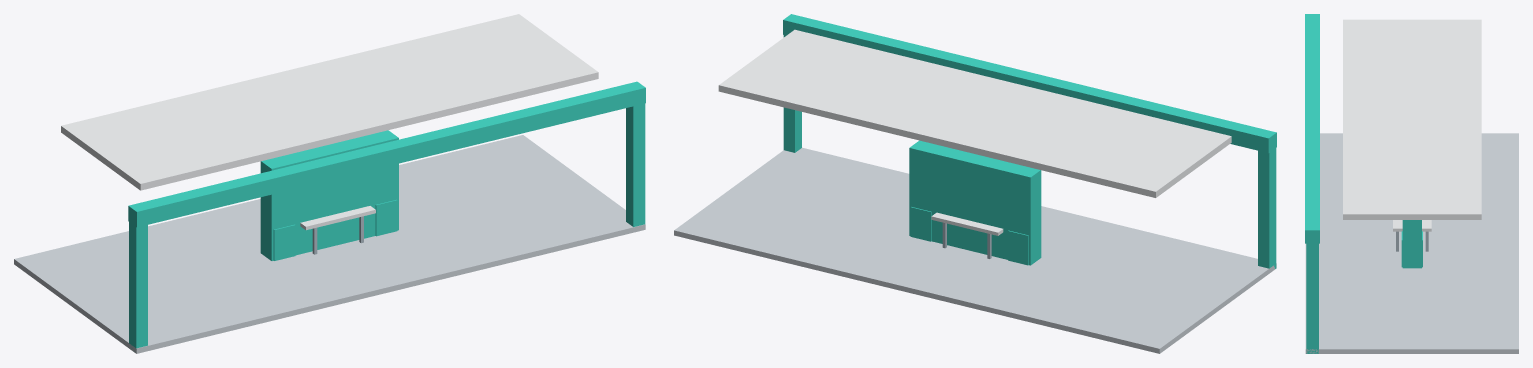
The picture shows the model from 3 angles, left to right: view 1: azimuth 30°, elevation 25°; view 2: azimuth 150°, elevation 25°; view 3: azimuth 270°, elevation 25°; orthographic projection. The views are drawn at different scales.
Parts seen in each view (by area): view 1: Exhibition Booth Concept; view 2: Exhibition Booth Concept; view 3: Exhibition Booth Concept.
Part boxes in pixels (x1=…): Exhibition Booth Concept: x1=14, y1=14, x2=645, y2=353; Exhibition Booth Concept: x1=674, y1=14, x2=1276, y2=353; Exhibition Booth Concept: x1=1305, y1=14, x2=1518, y2=353.
Size of the model in its own units: 12 by 3.34 by 5.02.
